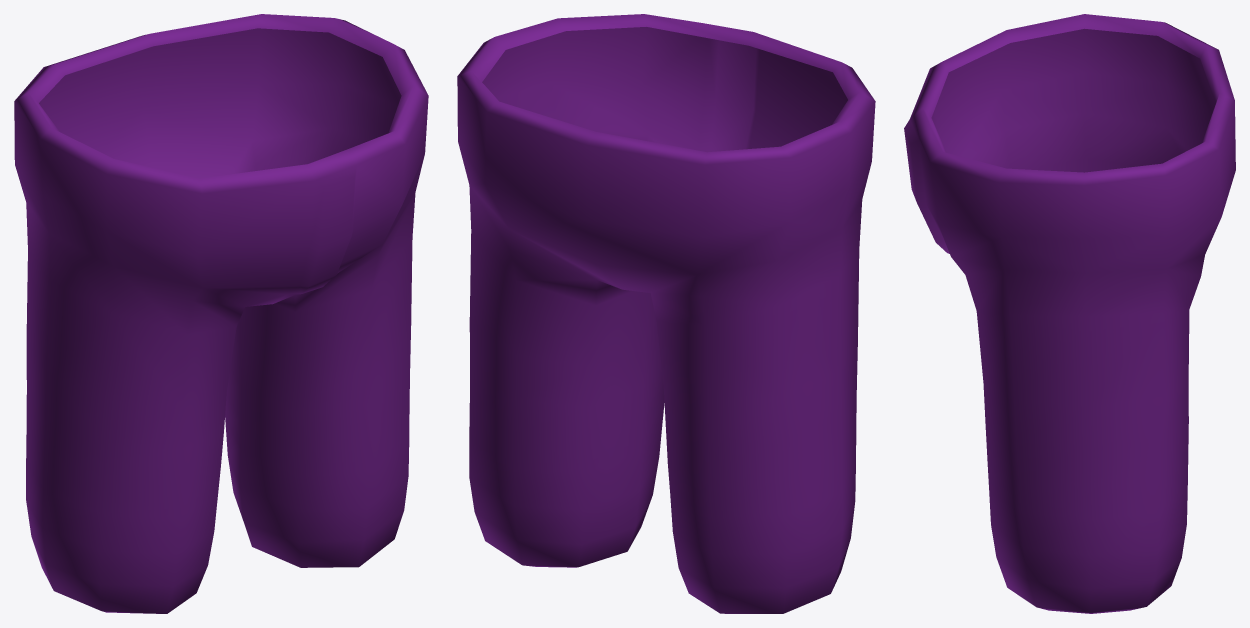
Rendered from Bottom_40.fbx.
3 views of the same model, side by side, from view 1: azimuth 30°, elevation 25°; view 2: azimuth 150°, elevation 25°; view 3: azimuth 270°, elevation 25° (orthographic). The views are drawn at different scales.
Visible parts, largest first — view 1: Bottom_40; view 2: Bottom_40; view 3: Bottom_40.
Part boxes in pixels (left/top/right/bottom): Bottom_40: left=14, top=14, right=428, bottom=613; Bottom_40: left=457, top=14, right=875, bottom=613; Bottom_40: left=904, top=14, right=1235, bottom=613.
Bounding box in the file's own units: 38.42 × 48.68 × 31.97.
